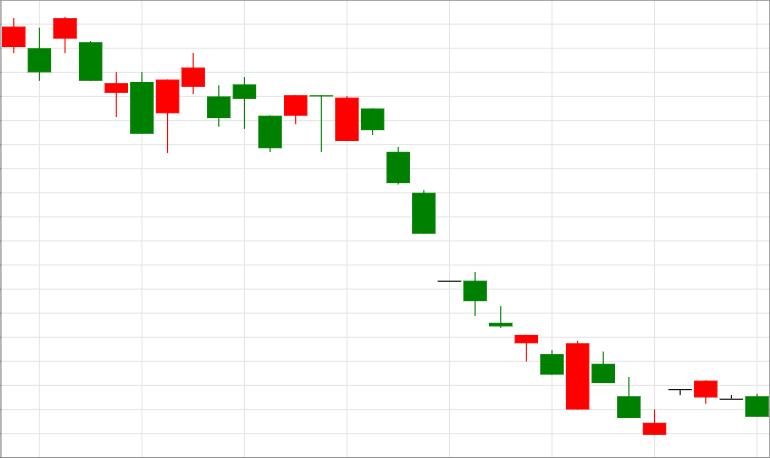bullish_engulfing_rise: (361, 108, 589, 409)
